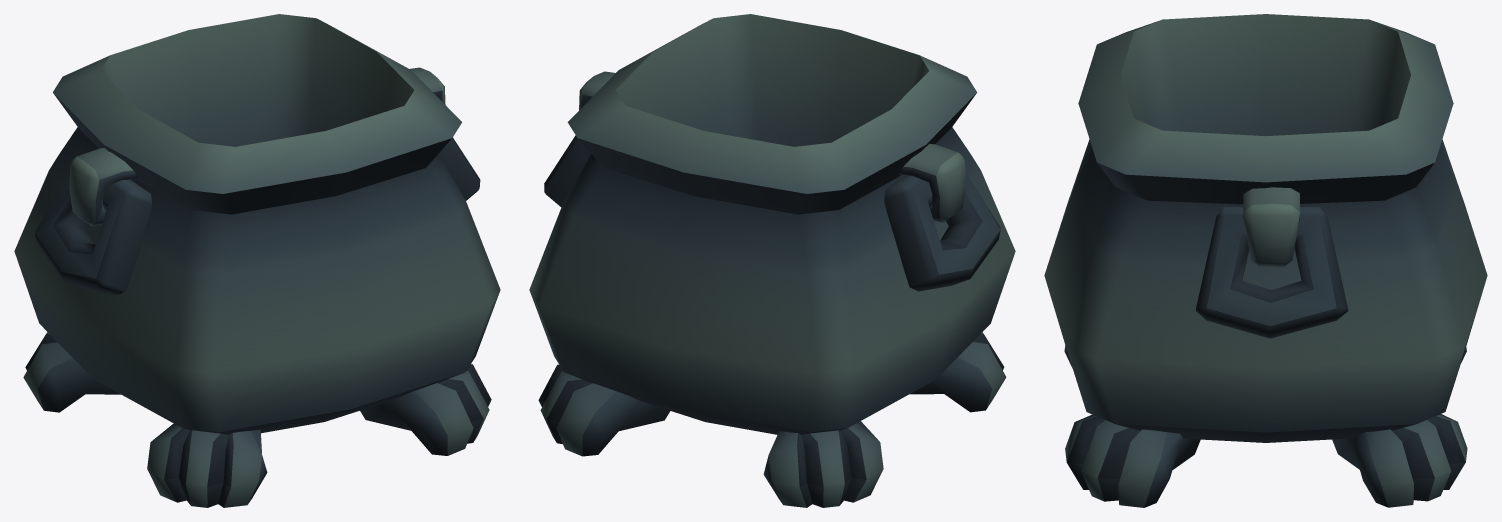
The model's file is pot_large_empty.fbx.
3 views of the same model, side by side, from view 1: azimuth 30°, elevation 25°; view 2: azimuth 150°, elevation 25°; view 3: azimuth 270°, elevation 25° (orthographic). The views are drawn at different scales.
Parts seen in each view (by area): view 1: pot_large_empty; view 2: pot_large_empty; view 3: pot_large_empty.
Part boxes in pixels (x1,y1,x2,y2): pot_large_empty: (14,14,500,507); pot_large_empty: (529,14,1015,507); pot_large_empty: (1044,14,1487,507).
Size of the model in its own units: 96.94 by 78.31 by 89.19.
